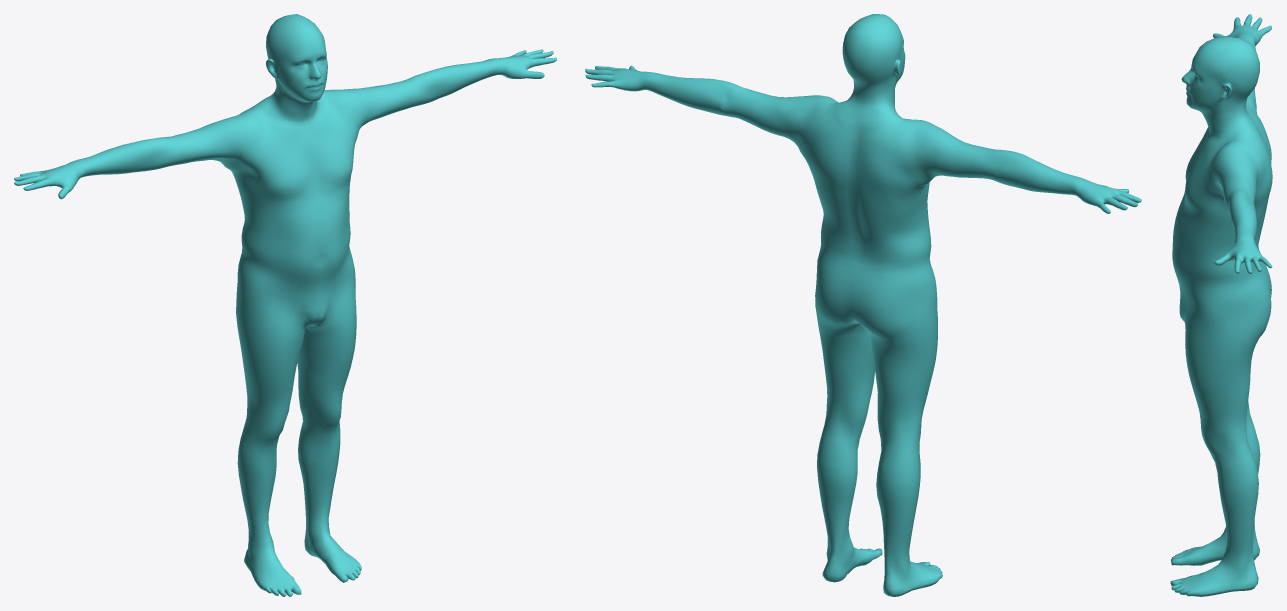
The model's file is t_pose_male.glb.
3 renders of one model, left to right at view 1: azimuth 30°, elevation 25°; view 2: azimuth 150°, elevation 25°; view 3: azimuth 270°, elevation 25°, orthographic. The views are drawn at different scales.
Visible parts, largest first — view 1: t_pose Reference; view 2: t_pose Reference; view 3: t_pose Reference.
Boxes of the visible parts, <box> form: t_pose Reference: <box>14,14,556,596</box>; t_pose Reference: <box>585,14,1141,596</box>; t_pose Reference: <box>1170,14,1272,596</box>.
Size of the model in its own units: 1.84 by 1.79 by 0.3085.
